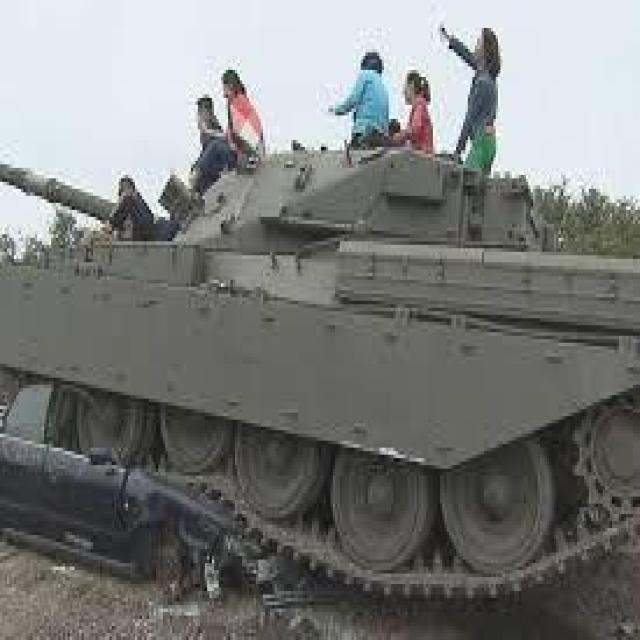MIL_MBT: (9, 140, 638, 598)
